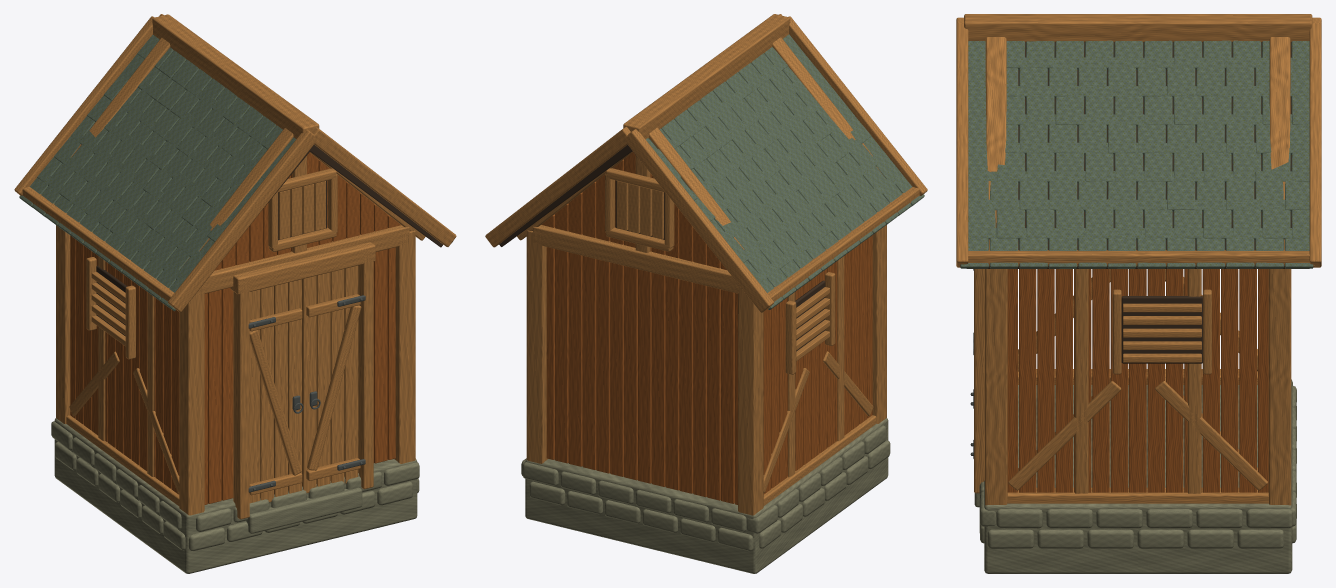
Rendered from barn.glb.
3 views of the same model, side by side, from view 1: azimuth 30°, elevation 25°; view 2: azimuth 150°, elevation 25°; view 3: azimuth 270°, elevation 25° (orthographic). The views are drawn at different scales.
Visible parts, largest first — view 1: RoofMesh, FrameMesh, DetailsMesh, WallsMesh, FoundationMesh; view 2: WallsMesh, RoofMesh, FrameMesh, FoundationMesh, DetailsMesh; view 3: RoofMesh, WallsMesh, FrameMesh, FoundationMesh, DetailsMesh.
Boxes of the visible parts, bbox=[...] form: RoofMesh: bbox=[14, 14, 456, 312]; FrameMesh: bbox=[56, 14, 425, 519]; DetailsMesh: bbox=[86, 168, 365, 503]; WallsMesh: bbox=[70, 152, 400, 504]; FoundationMesh: bbox=[51, 418, 419, 573]; WallsMesh: bbox=[541, 152, 872, 504]; RoofMesh: bbox=[485, 14, 927, 312]; FrameMesh: bbox=[517, 14, 886, 515]; FoundationMesh: bbox=[521, 418, 890, 573]; DetailsMesh: bbox=[605, 168, 835, 374]; RoofMesh: bbox=[956, 17, 1321, 268]; WallsMesh: bbox=[1007, 269, 1268, 492]; FrameMesh: bbox=[964, 14, 1312, 505]; FoundationMesh: bbox=[974, 379, 1296, 573]; DetailsMesh: bbox=[970, 269, 1211, 458].
Bounding box in the file's own units: 2.35 × 3.37 × 2.26.
6 materials, 4 textured.
